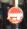No entry: (6, 6, 22, 24)
